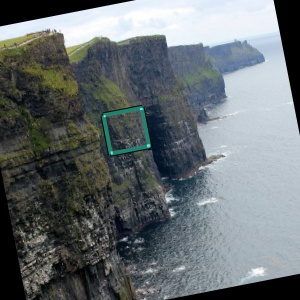square: (99, 105, 153, 157)
